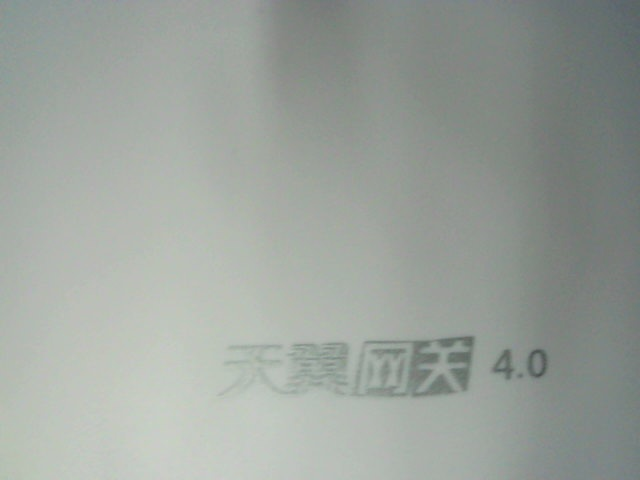BM_TianYiWangGuan: (222, 325, 547, 399)
